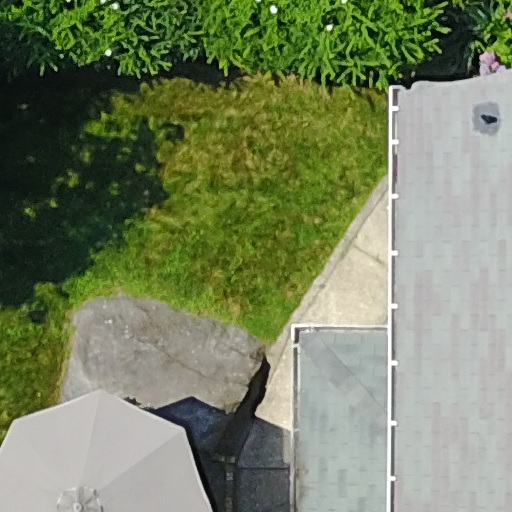umbrella: (11, 375, 215, 512)
